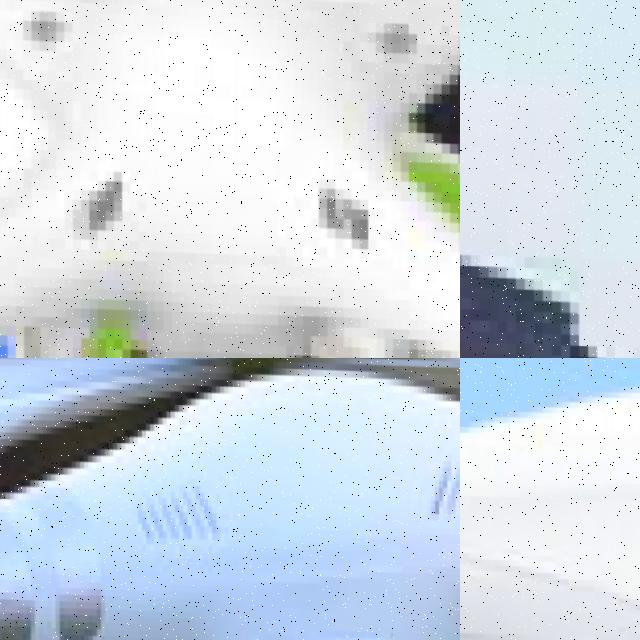0: (0, 358, 460, 640)
drone: (0, 0, 460, 358), (460, 0, 640, 358), (460, 358, 640, 640)
